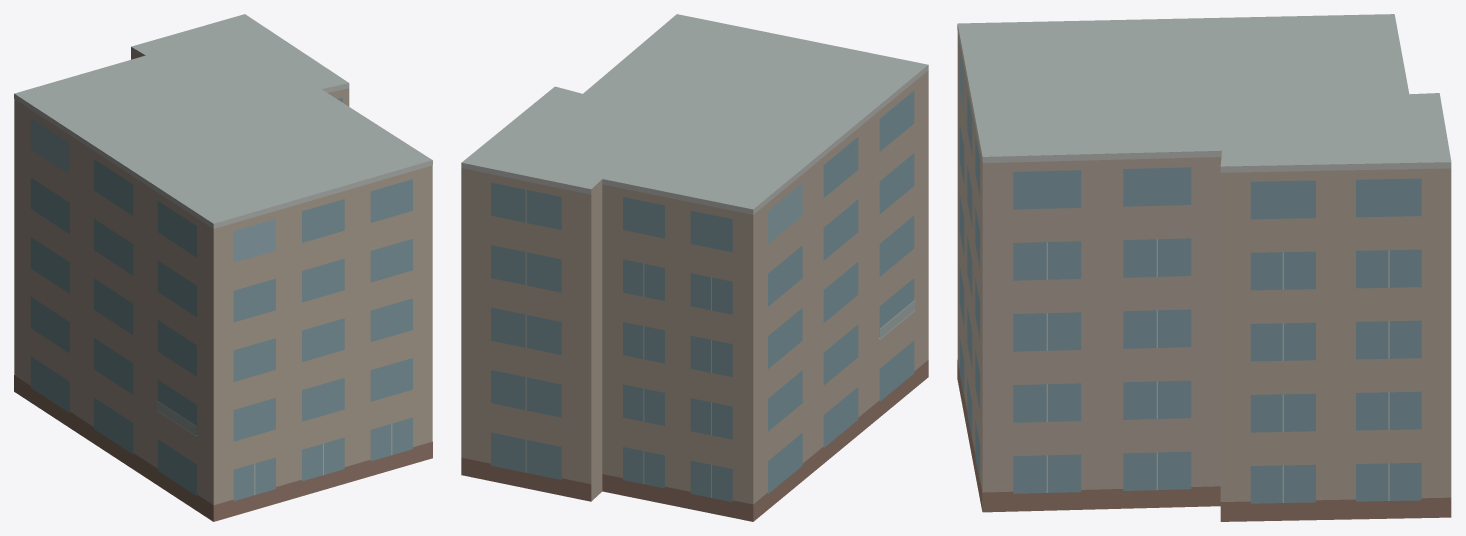
Rendered from survey-upis-32727641.glb.
The picture shows the model from 3 angles, left to right: view 1: azimuth 30°, elevation 25°; view 2: azimuth 150°, elevation 25°; view 3: azimuth 270°, elevation 25°; orthographic projection. The views are drawn at different scales.
Visible parts, largest first — view 1: survey-upis-32727641.tmp; view 2: survey-upis-32727641.tmp; view 3: survey-upis-32727641.tmp.
Boxes of the visible parts, bbox=[...] form: survey-upis-32727641.tmp: bbox=[14, 14, 432, 521]; survey-upis-32727641.tmp: bbox=[461, 14, 928, 521]; survey-upis-32727641.tmp: bbox=[957, 14, 1451, 521].
Size of the model in its own units: 12.9 by 14 by 17.65.
